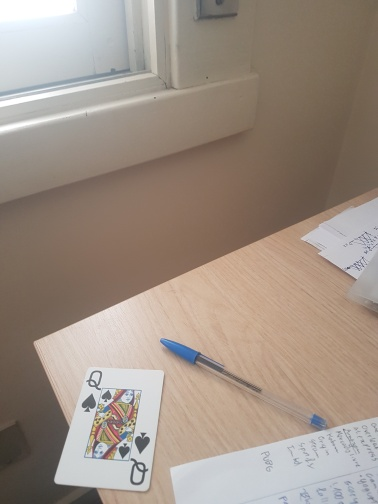queen: (53, 368, 163, 490)
